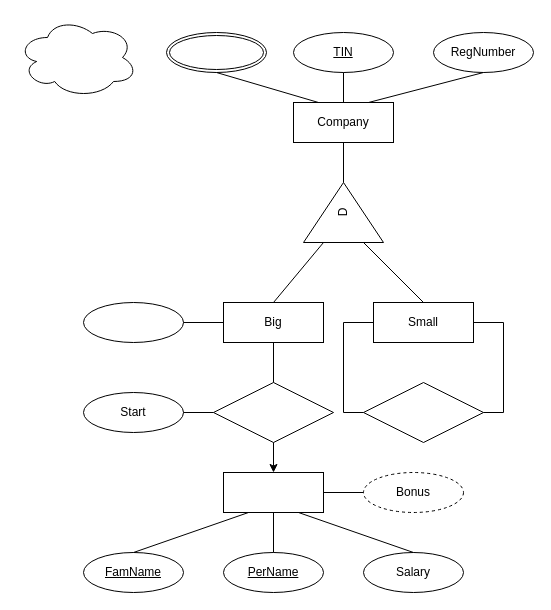
The diagram is 551 pixels wide and 610 high, and some of its shapes have lost their labels. Each missing label, with the box of its shape:
Helps: (362, 382, 484, 442)
Manager: (222, 472, 324, 512)
NIckname: (166, 32, 266, 72)
Supervises: (212, 382, 334, 442)
Value: (82, 302, 184, 342)
zk1: (16, 16, 138, 98)
